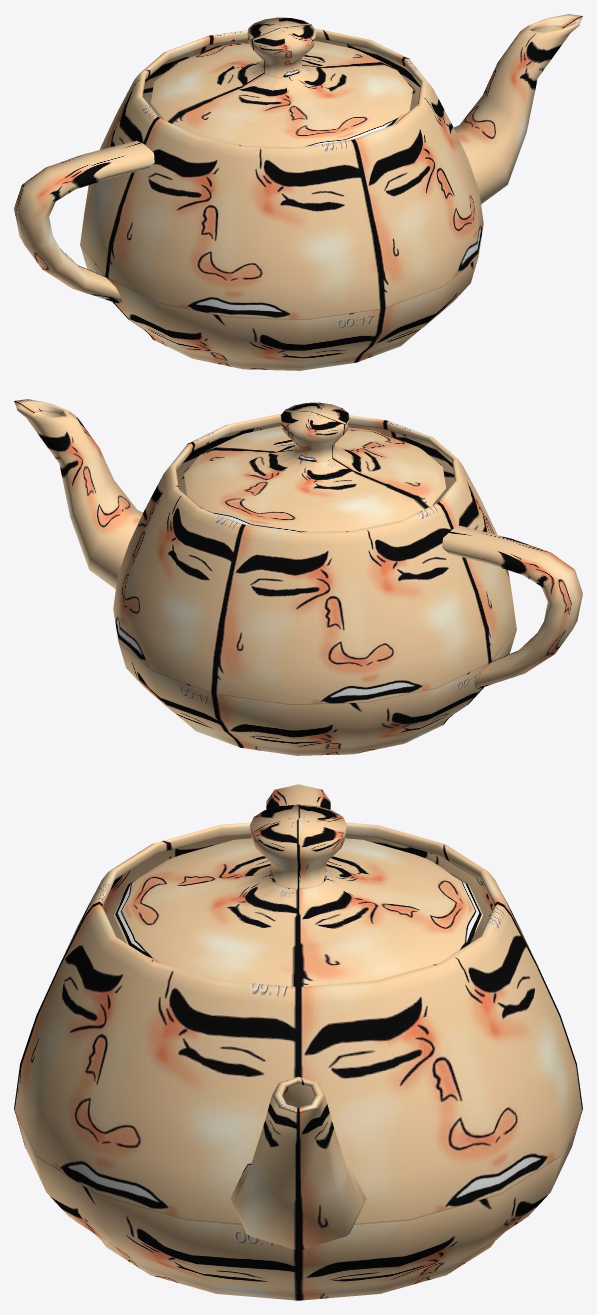
The model's file is teaPot.FBX.
3 renders of one model, top to bottom at view 1: azimuth 30°, elevation 25°; view 2: azimuth 150°, elevation 25°; view 3: azimuth 270°, elevation 25°, orthographic. The views are drawn at different scales.
Visible parts, largest first — view 1: Teapot001; view 2: Teapot001; view 3: Teapot001.
Part boxes in pixels (x1,y1,x2,y2): Teapot001: (14, 14, 582, 370); Teapot001: (14, 399, 582, 755); Teapot001: (14, 784, 582, 1300).
Bounding box in the file's own units: 3.21 × 1.58 × 2.
Materials: 1 (1 with a texture image).
